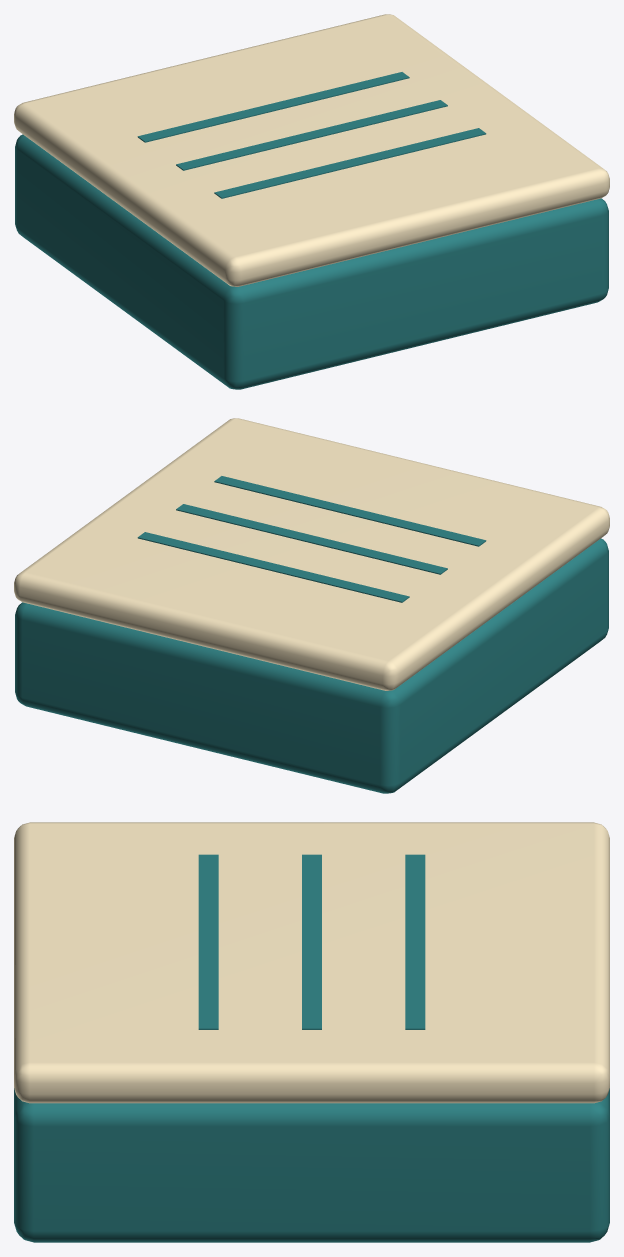
The model's file is lava-lift-1-v1.glb.
3 views of the same model, one above another, from view 1: azimuth 30°, elevation 25°; view 2: azimuth 150°, elevation 25°; view 3: azimuth 270°, elevation 25° (orthographic). The views are drawn at different scales.
Parts seen in each view (by area): view 1: lava-lift-1-v1.001; view 2: lava-lift-1-v1.001; view 3: lava-lift-1-v1.001.
Boxes of the visible parts, x1,y1,x2,y2 form: lava-lift-1-v1.001: (14,14,609,389); lava-lift-1-v1.001: (14,418,609,793); lava-lift-1-v1.001: (14,822,609,1242).
Bounding box in the file's own units: 3 × 1.01 × 3.
